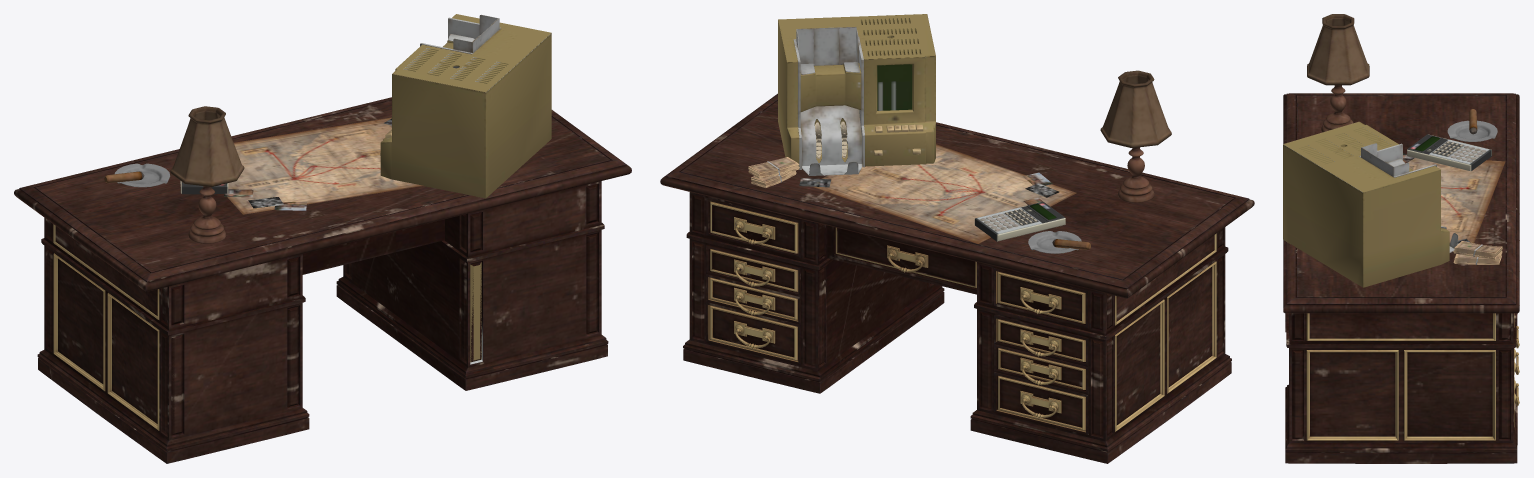
File: desk.gltf
3 renders of one model, left to right at view 1: azimuth 30°, elevation 25°; view 2: azimuth 150°, elevation 25°; view 3: azimuth 270°, elevation 25°, orthographic. The views are drawn at different scales.
Parts seen in each view (by area): view 1: Plane.003, Plane.009, Plane.017, Plane.014, Plane.015; view 2: Plane.003, Plane.009, Plane.017, Plane.014, Plane.007, Plane.023, Plane.015; view 3: Plane.003, Plane.009, Plane.014, Plane.017, Plane.007, Plane.023, Plane.015.
Part boxes in pixels (<box>): Plane.003: <box>14,97,631,463</box>; Plane.009: <box>380,14,551,198</box>; Plane.017: <box>227,117,423,214</box>; Plane.014: <box>170,106,244,243</box>; Plane.015: <box>114,163,170,187</box>; Plane.003: <box>660,93,1254,463</box>; Plane.009: <box>778,14,935,175</box>; Plane.017: <box>812,144,1076,243</box>; Plane.014: <box>1100,70,1171,202</box>; Plane.007: <box>974,201,1065,241</box>; Plane.023: <box>748,157,799,187</box>; Plane.015: <box>1028,231,1081,253</box>; Plane.003: <box>1283,93,1519,463</box>; Plane.009: <box>1283,121,1458,287</box>; Plane.014: <box>1307,14,1369,132</box>; Plane.017: <box>1408,158,1505,243</box>; Plane.007: <box>1407,134,1491,171</box>; Plane.023: <box>1453,241,1502,264</box>; Plane.015: <box>1447,120,1497,141</box>.
Bounding box in the file's own units: 2.31 × 1.42 × 1.08.
Materials: 1 (1 with a texture image).
